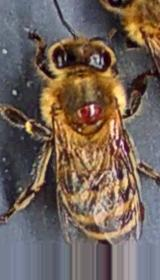varroa_mite: (72, 96, 106, 127)
